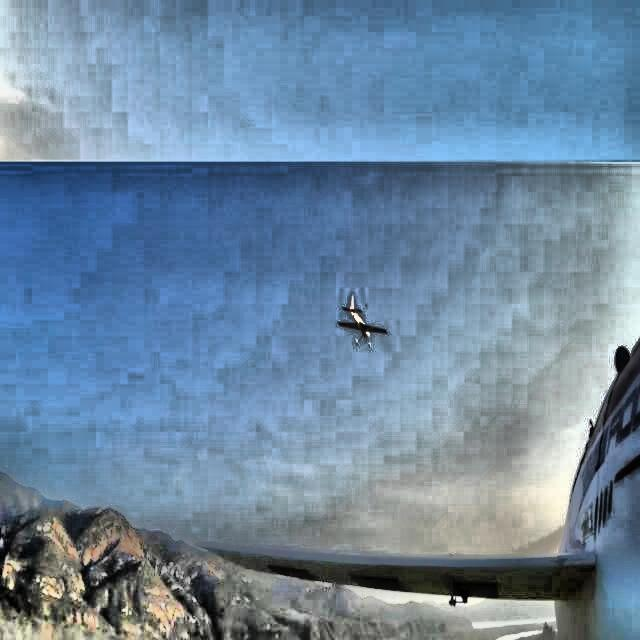iha: (361, 291, 364, 350)
